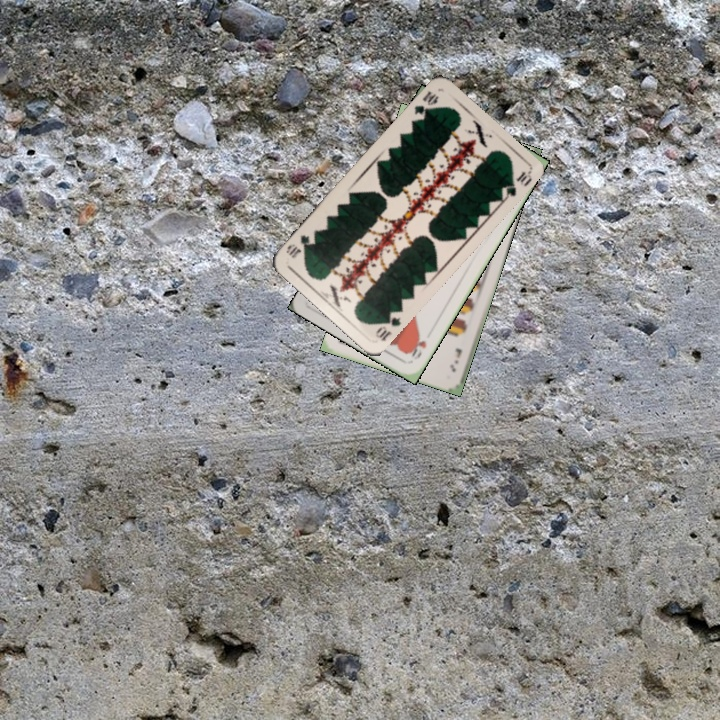E7: (446, 344, 465, 374)
G10: (371, 307, 403, 344), (410, 87, 441, 119)
HO: (405, 331, 429, 362)
